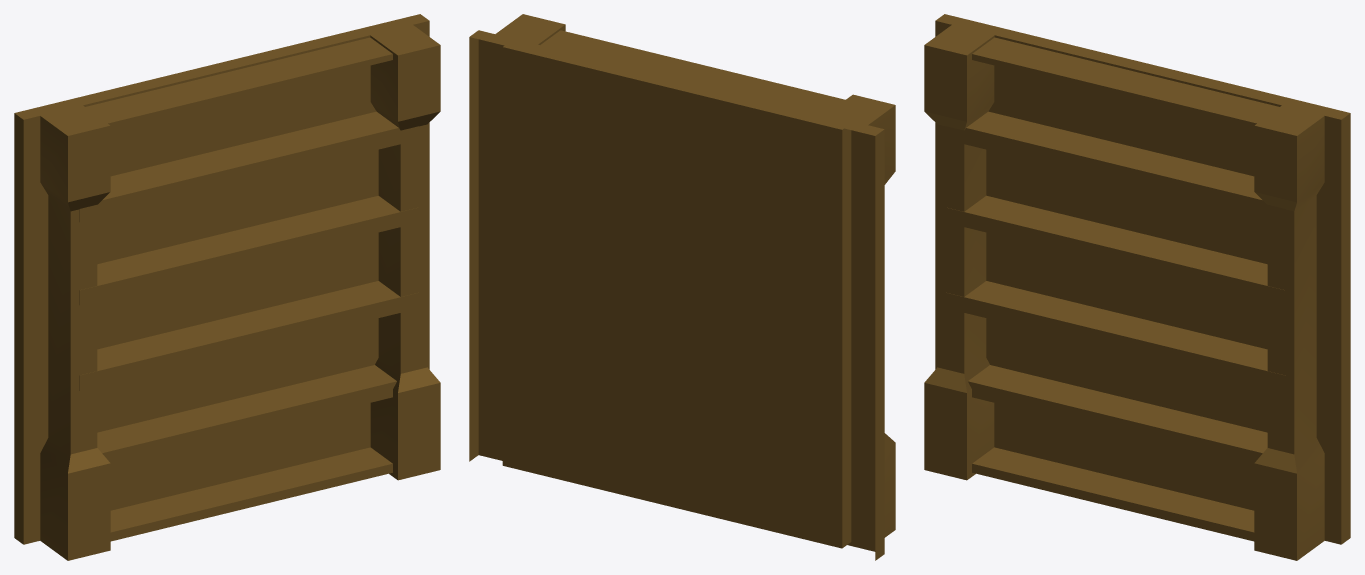
Rendered from etagere_02.fbx.
3 views of the same model, side by side, from view 1: azimuth 30°, elevation 25°; view 2: azimuth 150°, elevation 25°; view 3: azimuth 330°, elevation 25° (orthographic).
Parts seen in each view (by area): view 1: pCube1, pasted__polySurface10, pasted__polySurface11, pasted__polySurface13; view 2: pCube1, pasted__polySurface13, pasted__polySurface10, pasted__polySurface11; view 3: pCube1, pasted__polySurface11, pasted__polySurface10, pasted__polySurface13.
Boxes of the visible parts, <box> form: pCube1: <box>79,37,418,541</box>; pasted__polySurface10: <box>40,105,110,560</box>; pasted__polySurface11: <box>370,25,440,480</box>; pasted__polySurface13: <box>14,14,429,544</box>; pCube1: <box>502,30,851,548</box>; pasted__polySurface13: <box>469,30,884,560</box>; pasted__polySurface10: <box>825,94,895,537</box>; pasted__polySurface11: <box>495,14,565,44</box>; pCube1: <box>946,37,1285,541</box>; pasted__polySurface11: <box>1254,105,1324,560</box>; pasted__polySurface10: <box>924,25,994,480</box>; pasted__polySurface13: <box>935,14,1350,544</box>.
Size of the model in its own units: 5 by 5 by 0.788.
